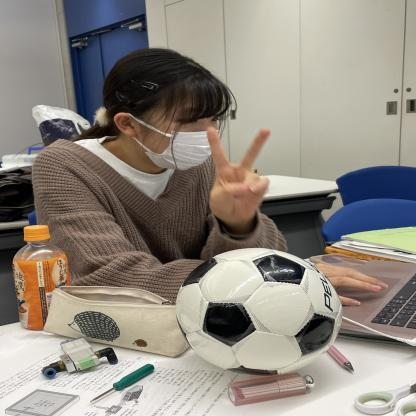ball: (174, 248, 344, 373)
